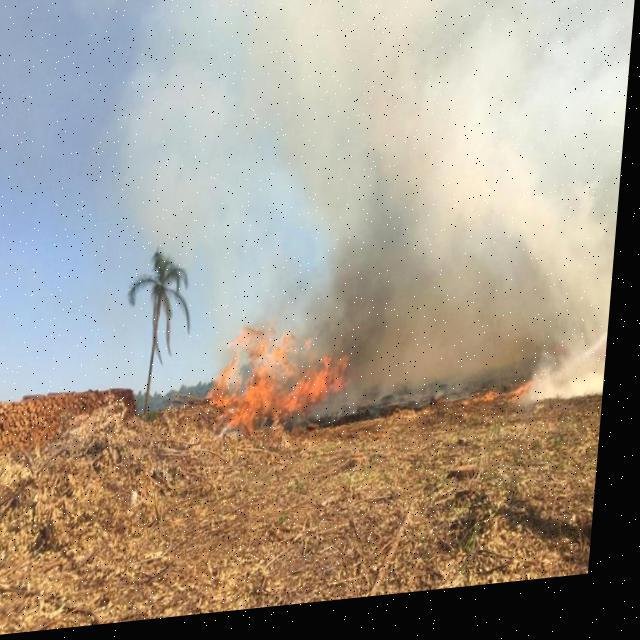Fire: (215, 326, 359, 439)
